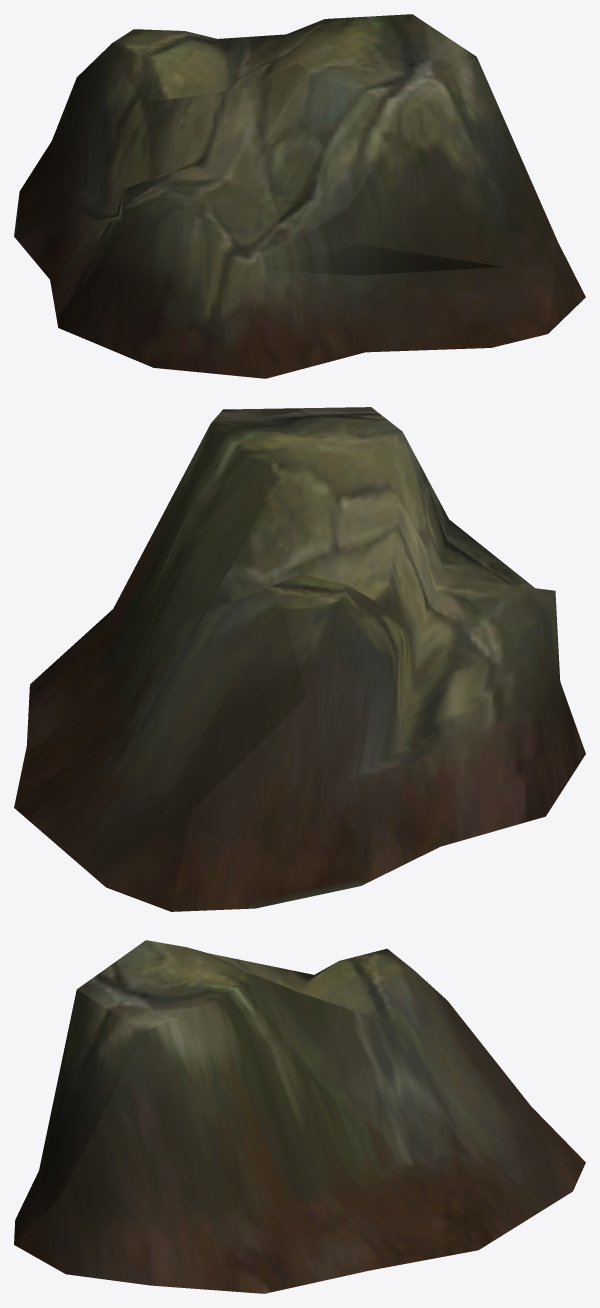
Rendered from fxmg_shitou3.FBX.
3 renders of one model, top to bottom at view 1: azimuth 30°, elevation 25°; view 2: azimuth 150°, elevation 25°; view 3: azimuth 270°, elevation 25°, orthographic. The views are drawn at different scales.
Visible parts, largest first — view 1: KLMSM_shitou3; view 2: KLMSM_shitou3; view 3: KLMSM_shitou3.
Boxes of the visible parts, bbox=[...] form: KLMSM_shitou3: bbox=[14, 14, 585, 378]; KLMSM_shitou3: bbox=[14, 407, 585, 911]; KLMSM_shitou3: bbox=[14, 940, 585, 1293].
Size of the model in its own units: 16.32 by 8.54 by 18.7.
